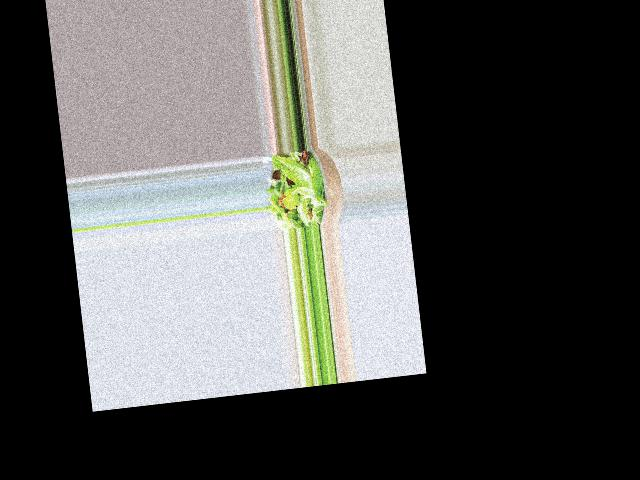lettuce: (266, 155, 328, 227)
